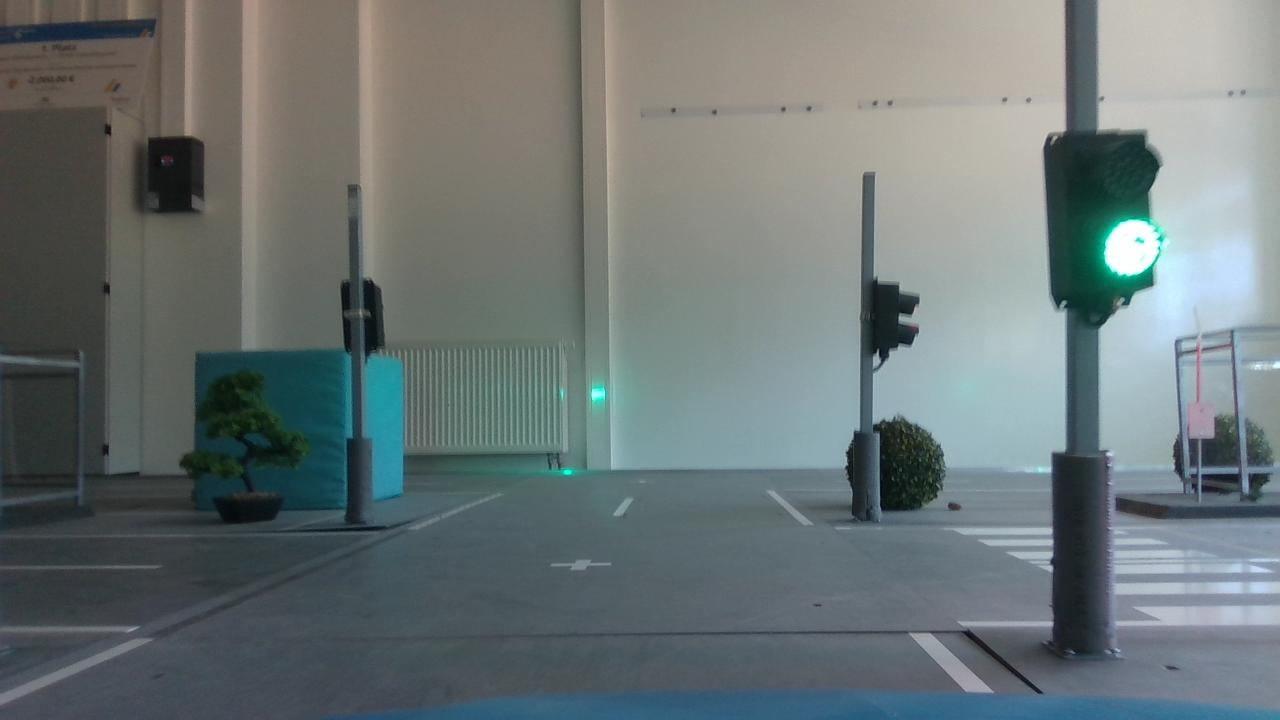traffic_light_green: (1031, 108, 1176, 317)
